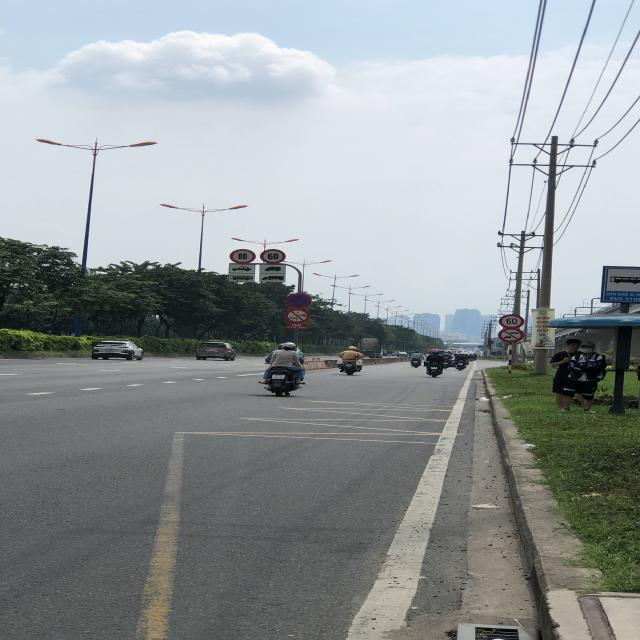Bien bao cam dung xe va do xe: (282, 291, 310, 309)
Bien bao cam xe oto khach va xe oto tai: (496, 328, 526, 342)
Bien bao toc do toi da cho phep: (229, 247, 256, 265), (259, 249, 286, 264), (498, 314, 522, 328)
